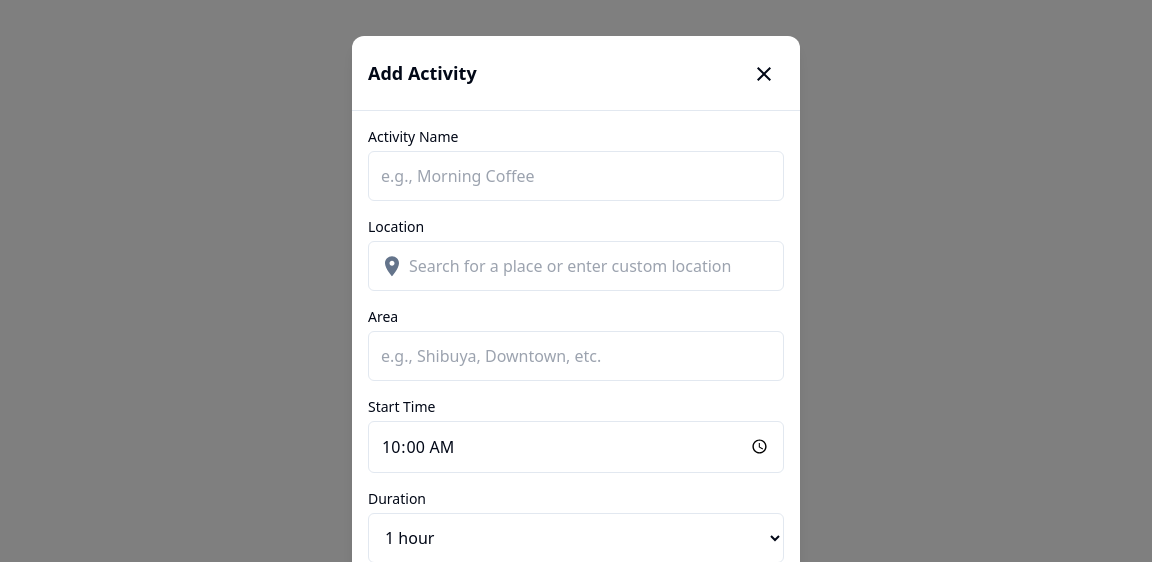
Test case: ActivityModal Component › should support location search with suggestions
Type "Starbucks" into the field labelled "Location" at (576, 266), box [368,241,784,291]
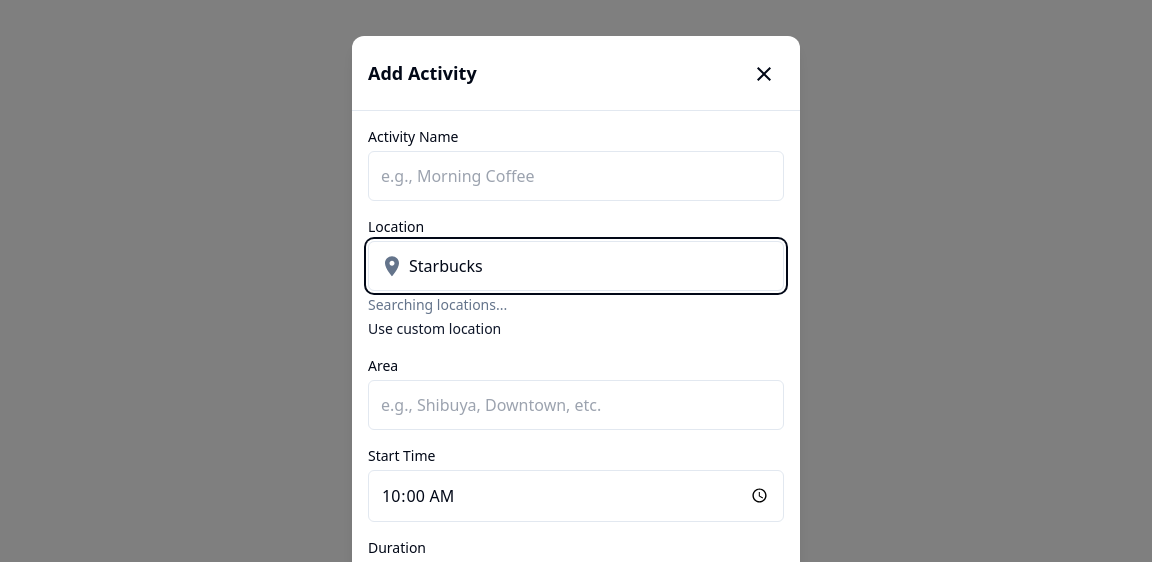
Result: the text "Searching locations..." is shown at [368,295,507,314]
